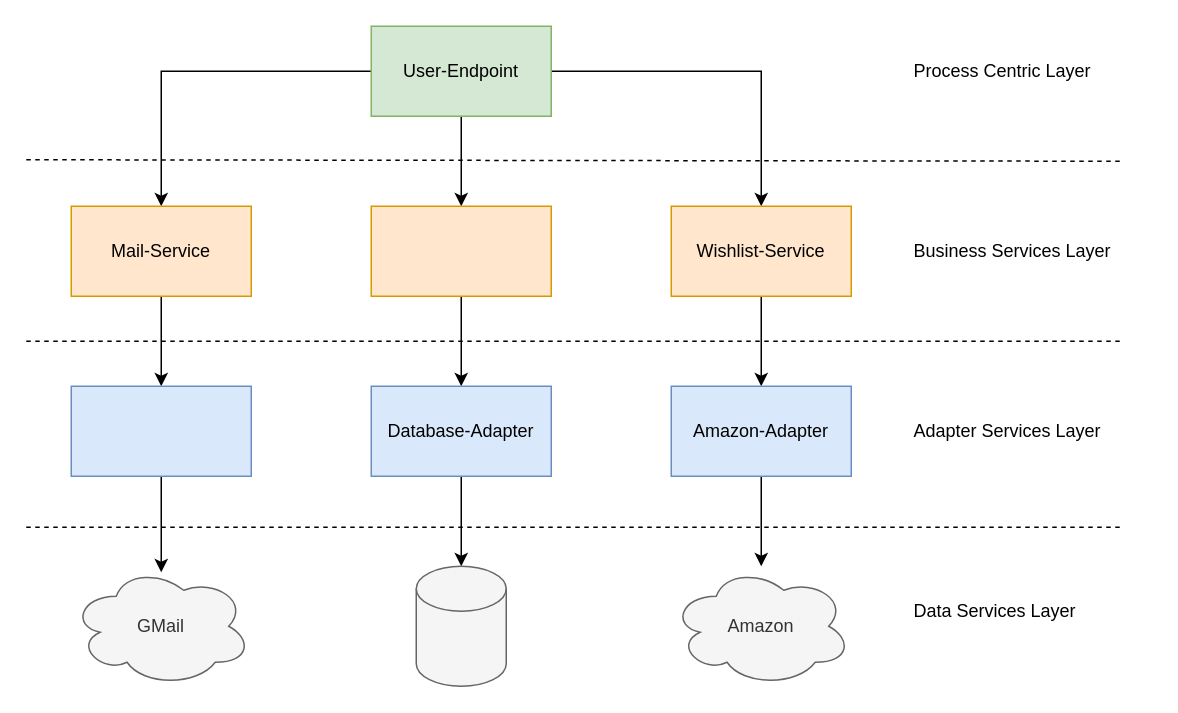
Some shapes in this 1178 by 713 pixel diagram are drawn without their labels. Here are the shapes that lost their labels. From the top down, the box of each, then its label:
(370, 205, 551, 296): User-Service
(70, 385, 251, 476): GMail-Adapter
(415, 565, 506, 686): DB
